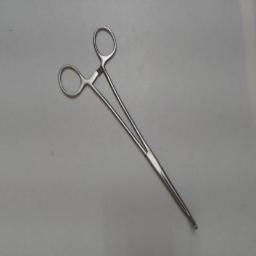Lahey Forceps: (56, 20, 204, 238)
